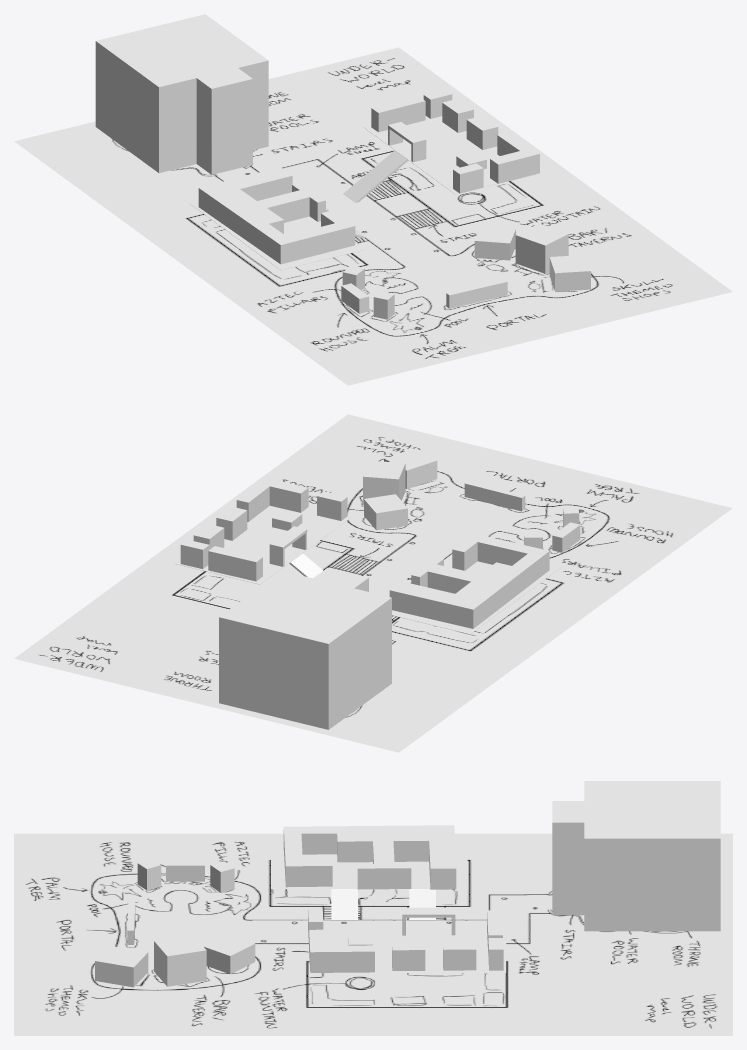
The model's file is V3_LAND_DEAD.fbx.
The picture shows the model from 3 angles, top to bottom: view 1: azimuth 30°, elevation 25°; view 2: azimuth 150°, elevation 25°; view 3: azimuth 270°, elevation 25°; orthographic projection. The views are drawn at different scales.
Parts seen in each view (by area): view 1: Ground, Cube__5__1, Cube__6__1, Cube_1, Cube__7_, Cube__10_, Cube, Cube__12_, Cube__1__1, Cube__1_, Cube__20_, Cube__15_ (+9 smaller); view 2: Ground, Cube__5__1, Cube_1, Cube__10_, Cube__7_, Cube, Cube__20_, Cube__12_, Cube__2_, Cube__1__1, Cube__1_, Cube__15_ (+11 smaller); view 3: Ground, Cube__5__1, Cube_1, Cube__6__1, Cube__1__1, Cube, Cube__8_, Cube__7_, Cube__1_, Cube__10_, Cube__2_, Cube__11_ (+15 smaller).
Part boxes in pixels (x1,y1,x2,y2): Ground: [14, 47, 732, 385]; Cube__5__1: [95, 14, 268, 173]; Cube__6__1: [196, 68, 252, 174]; Cube_1: [364, 116, 539, 194]; Cube__7_: [210, 193, 294, 264]; Cube__10_: [198, 167, 292, 214]; Cube: [515, 223, 568, 273]; Cube__12_: [285, 220, 355, 260]; Cube__1__1: [189, 201, 365, 270]; Cube__1_: [549, 255, 590, 291]; Cube__20_: [371, 96, 425, 132]; Cube__15_: [490, 148, 539, 183]; Ground: [14, 414, 732, 752]; Cube__5__1: [219, 571, 391, 729]; Cube_1: [175, 506, 350, 584]; Cube__10_: [389, 581, 484, 628]; Cube__7_: [471, 548, 549, 620]; Cube: [363, 460, 405, 504]; Cube__20_: [208, 546, 262, 581]; Cube__12_: [466, 533, 538, 565]; Cube__2_: [364, 494, 407, 530]; Cube__1__1: [392, 561, 560, 634]; Cube__1_: [384, 448, 437, 489]; Cube__15_: [258, 477, 308, 512]; Ground: [14, 833, 732, 1035]; Cube__5__1: [584, 781, 720, 931]; Cube_1: [309, 928, 506, 972]; Cube__6__1: [552, 801, 584, 915]; Cube__1__1: [271, 844, 467, 889]; Cube: [154, 935, 206, 986]; Cube__8_: [337, 832, 431, 862]; Cube__7_: [283, 825, 430, 854]; Cube__1_: [95, 945, 148, 987]; Cube__10_: [428, 825, 456, 889]; Cube__2_: [203, 933, 255, 974]; Cube__11_: [357, 863, 411, 889].
Bounding box in the file's own units: 20684 × 4549 × 31087.
2 materials, 1 textured.
